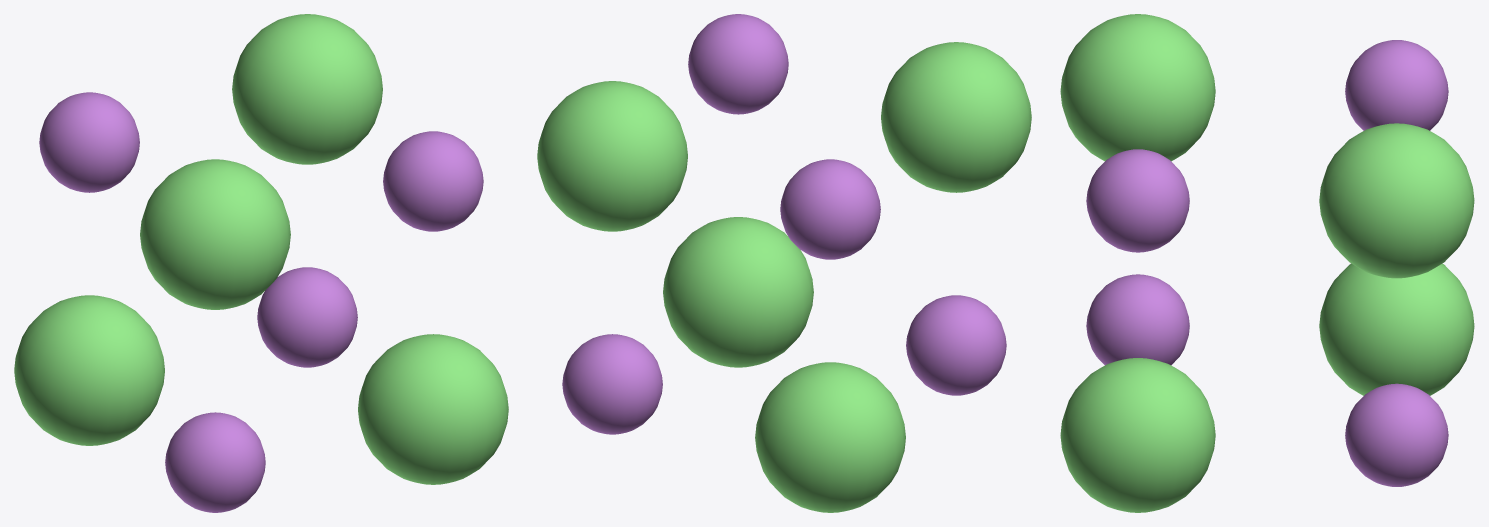
Rendered from sodium_chloride.glb.
3 renders of one model, left to right at view 1: azimuth 30°, elevation 25°; view 2: azimuth 150°, elevation 25°; view 3: azimuth 270°, elevation 25°, orthographic. The views are drawn at different scales.
Parts seen in each view (by area): view 1: ion_node (×8); view 2: ion_node (×8); view 3: ion_node (×8).
Boxes of the visible parts, bbox=[...] form: ion_node (×8): bbox=[14, 14, 508, 512]; ion_node (×8): bbox=[537, 14, 1031, 512]; ion_node (×8): bbox=[1060, 14, 1474, 512].
Size of the model in its own units: 1.28 by 1.28 by 1.28.
